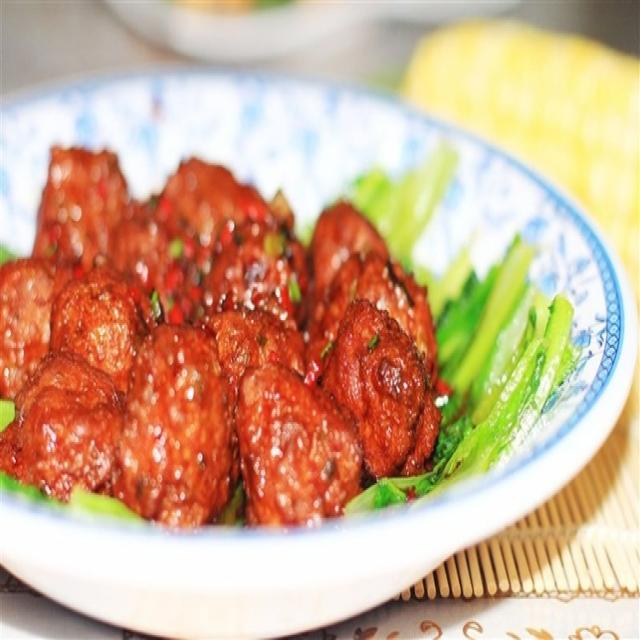猪肉菜式: (2, 71, 599, 597)
